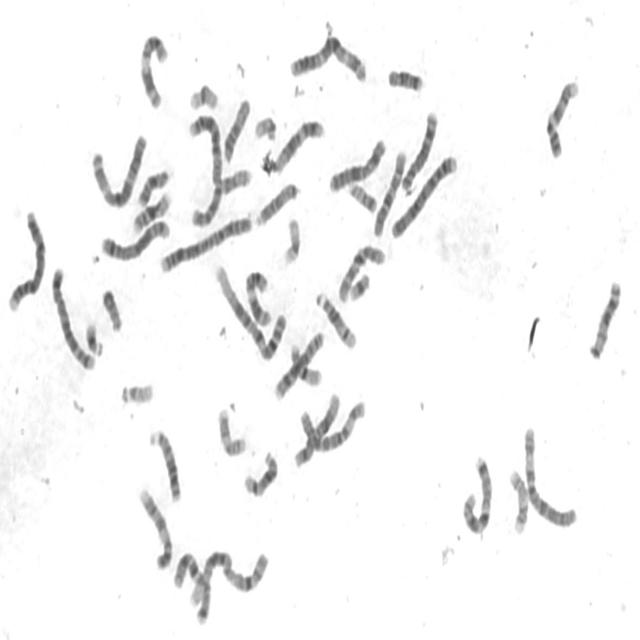A1: (212, 256, 290, 364), (186, 543, 272, 614)
A2: (158, 208, 255, 275), (184, 106, 225, 229)
A3: (88, 127, 149, 211), (286, 30, 369, 85)
B4: (388, 147, 460, 241), (5, 203, 48, 313)
B5: (48, 260, 98, 372), (98, 212, 172, 262)
C10: (371, 143, 409, 240), (336, 236, 388, 305)
C11: (137, 26, 171, 110), (242, 264, 274, 328)
C12: (260, 111, 327, 176), (291, 386, 342, 470)
C6: (521, 419, 580, 530), (294, 393, 368, 458)
C7: (170, 544, 214, 626), (459, 448, 495, 537)
C8: (271, 324, 326, 402), (399, 103, 440, 196)
C9: (136, 480, 175, 572), (543, 72, 582, 160)
D13: (586, 273, 624, 362), (146, 422, 184, 504)
D14: (313, 285, 360, 351), (241, 443, 281, 498)
D15: (252, 176, 302, 229), (220, 91, 252, 166)
E16: (130, 185, 174, 235), (288, 337, 324, 388)
E17: (215, 401, 249, 458), (506, 462, 531, 537)
E18: (136, 162, 173, 208), (385, 61, 426, 93)
F19: (280, 210, 304, 267), (187, 77, 220, 112)
F20: (346, 176, 379, 215), (218, 162, 254, 196)
G21: (82, 314, 106, 358), (347, 267, 373, 303)
G22: (118, 374, 156, 408), (251, 109, 279, 143)
X: (326, 132, 389, 194)
Y: (99, 281, 125, 333)
